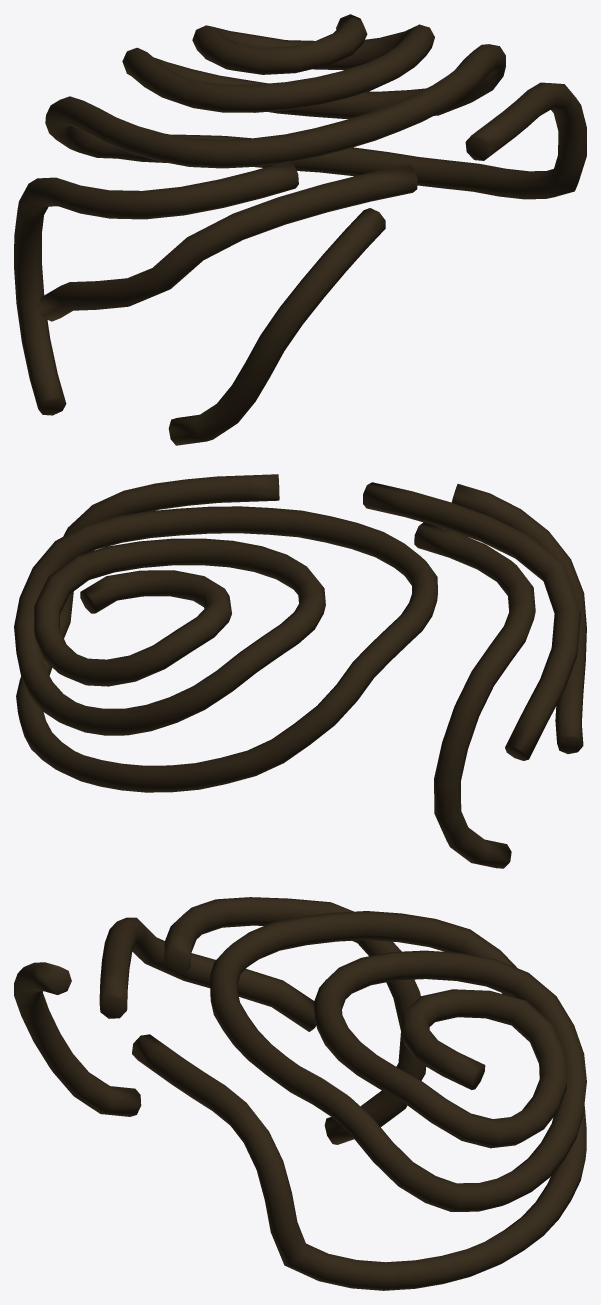
The model's file is MM_Mort_Hair.fbx.
3 renders of one model, top to bottom at view 1: azimuth 30°, elevation 25°; view 2: azimuth 150°, elevation 25°; view 3: azimuth 270°, elevation 25°, orthographic. The views are drawn at different scales.
Parts seen in each view (by area): view 1: MM_Mort_Hair; view 2: MM_Mort_Hair; view 3: MM_Mort_Hair.
Part boxes in pixels (x1,y1,x2,y2): MM_Mort_Hair: [14, 14, 586, 445]; MM_Mort_Hair: [14, 474, 586, 868]; MM_Mort_Hair: [14, 897, 586, 1290].
Size of the model in its own units: 21.22 by 10.61 by 19.73.
